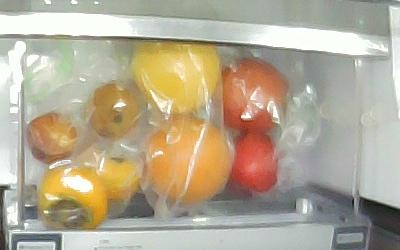apple_vinyl: (214, 58, 289, 134), (230, 131, 277, 192)
grapefruit_vinyl: (145, 115, 231, 205), (131, 39, 221, 116)
persimmon_vinyl: (37, 167, 108, 228), (82, 156, 139, 201)
prune_vinyl: (86, 81, 140, 139), (27, 112, 79, 165)
